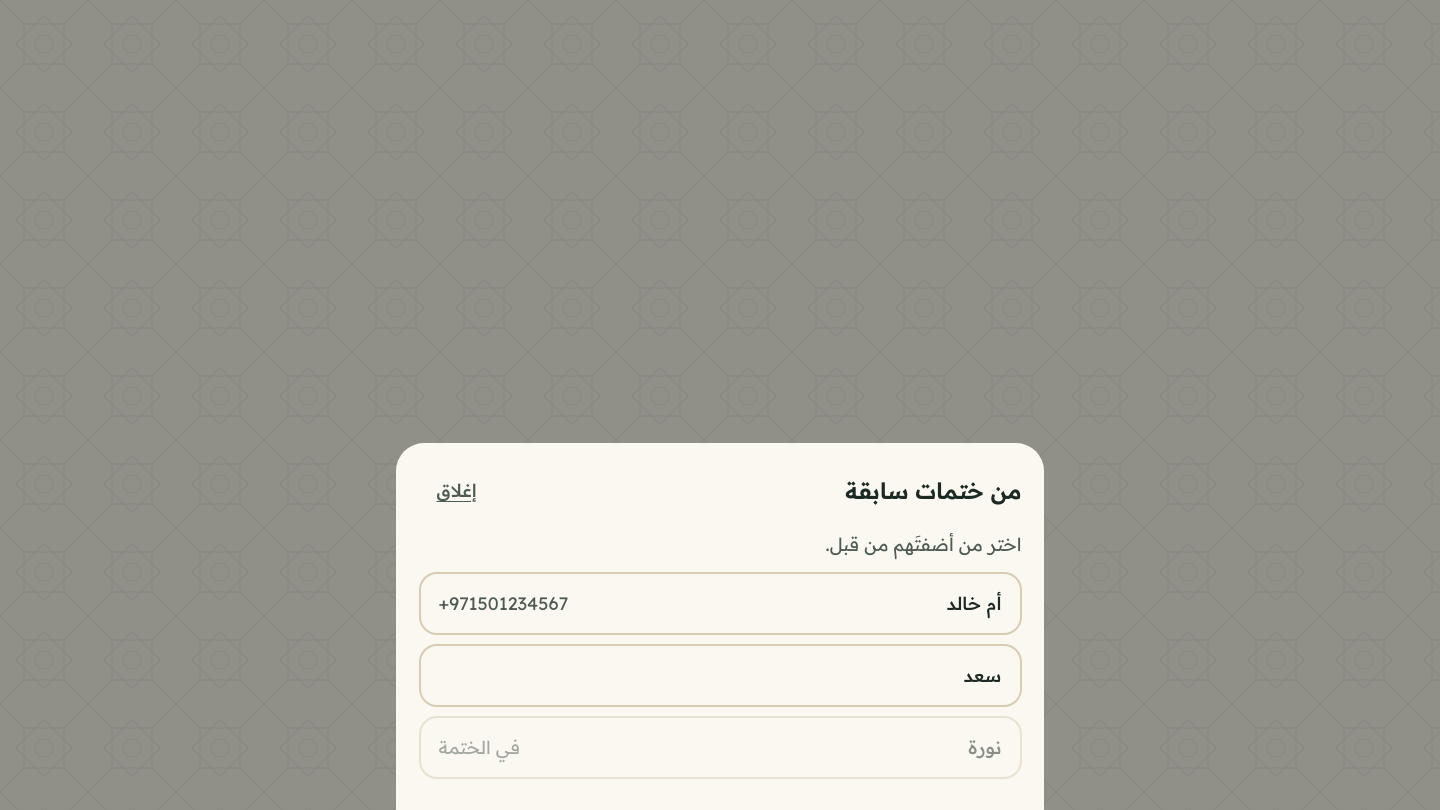
it: SavedPicker › a refusal (juz_taken) is said plainly and keeps the sheet open
Click the button "أم خالد +971501234567" at (974, 603), box left=418, top=572, right=1022, bottom=634
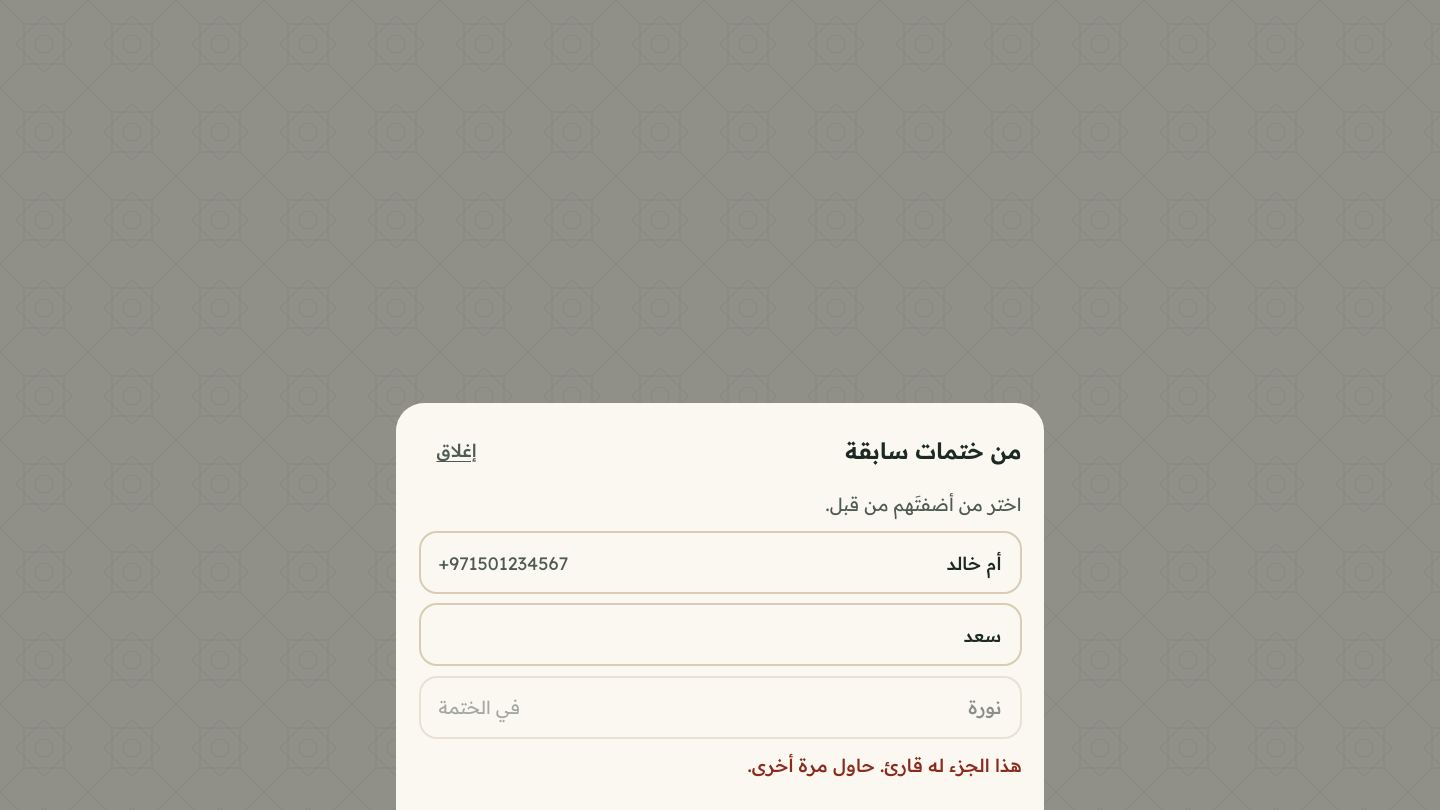
Check: the message reads "هذا الجزء له قارئ. حاول مرة أخرى.", box left=748, top=754, right=1022, bottom=776
